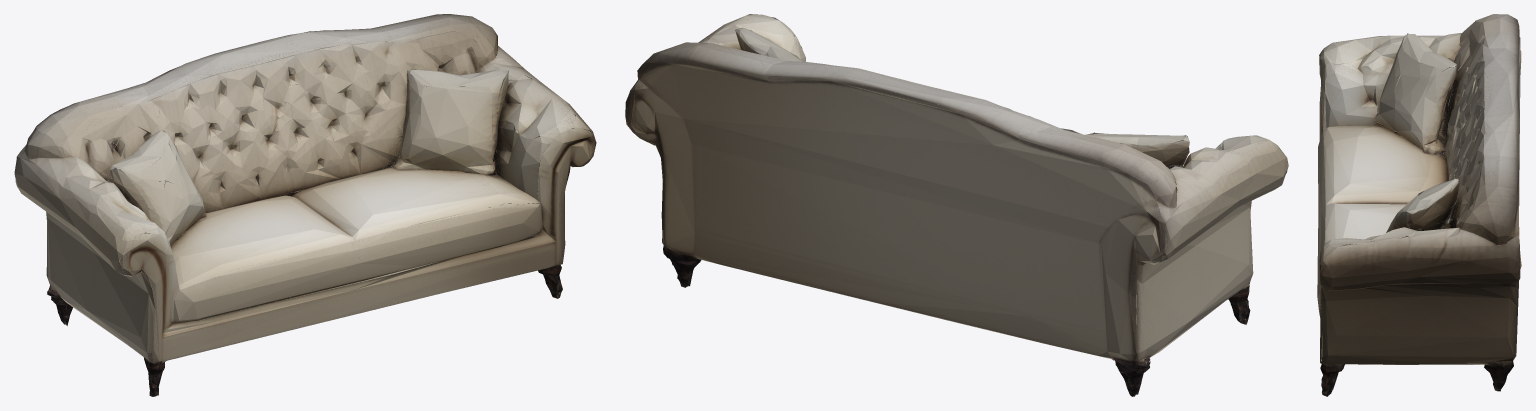
File: sofa-trellis.glb
3 views of the same model, side by side, from view 1: azimuth 30°, elevation 25°; view 2: azimuth 150°, elevation 25°; view 3: azimuth 270°, elevation 25° (orthographic). The views are drawn at different scales.
Parts seen in each view (by area): view 1: geometry_0; view 2: geometry_0; view 3: geometry_0.
Boxes of the visible parts, x1,y1,x2,y2 form: geometry_0: [14, 14, 596, 396]; geometry_0: [625, 14, 1288, 396]; geometry_0: [1317, 14, 1521, 396].
Size of the model in its own units: 0.9992 by 0.4547 by 0.3934.
Materials: 1 (1 with a texture image).
